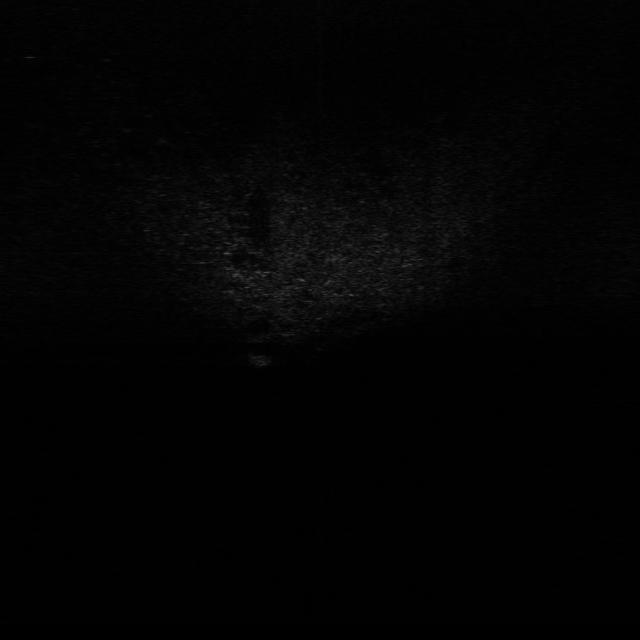cube: (248, 348, 277, 371)
